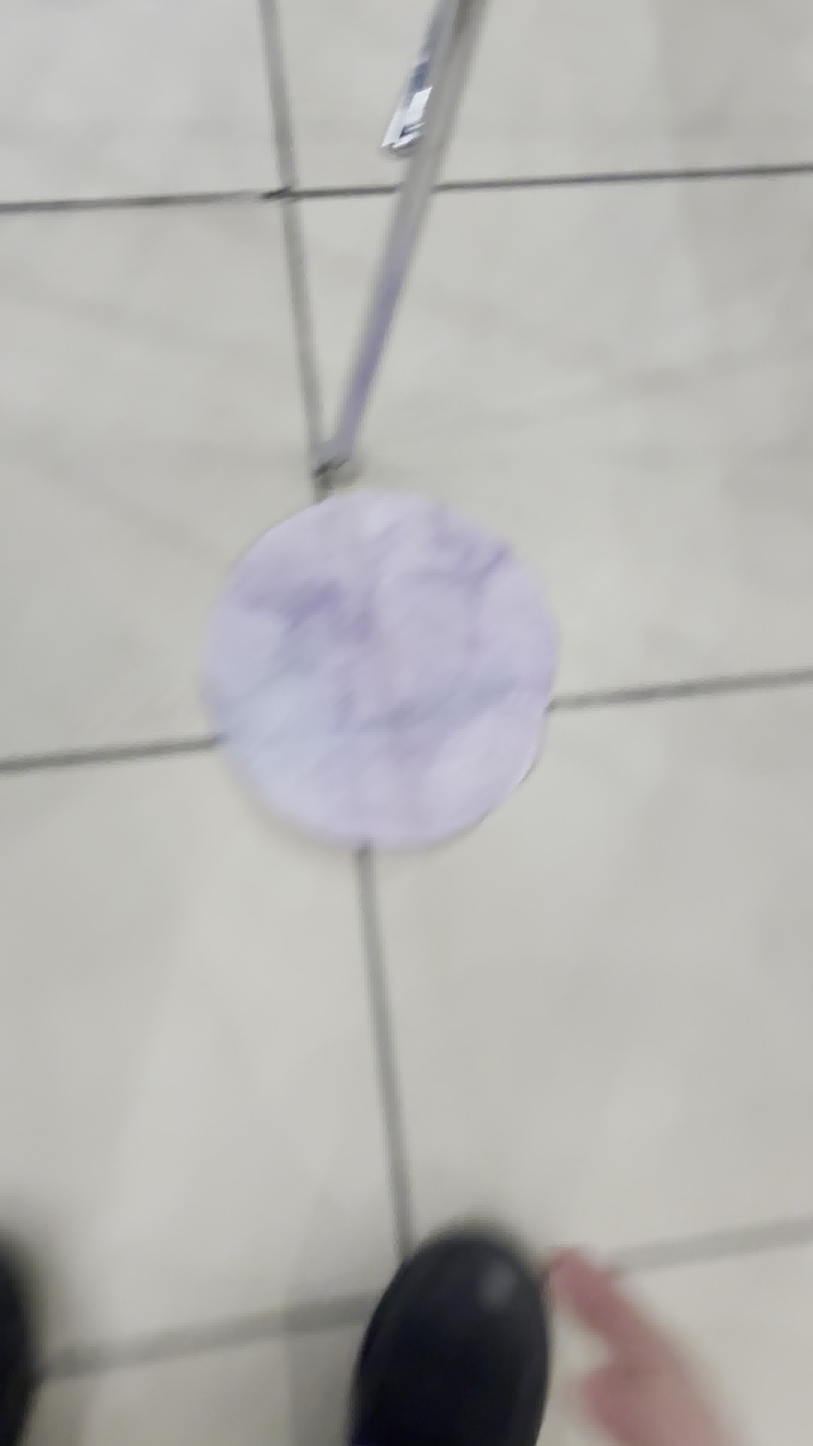Target: (179, 495, 565, 862)
